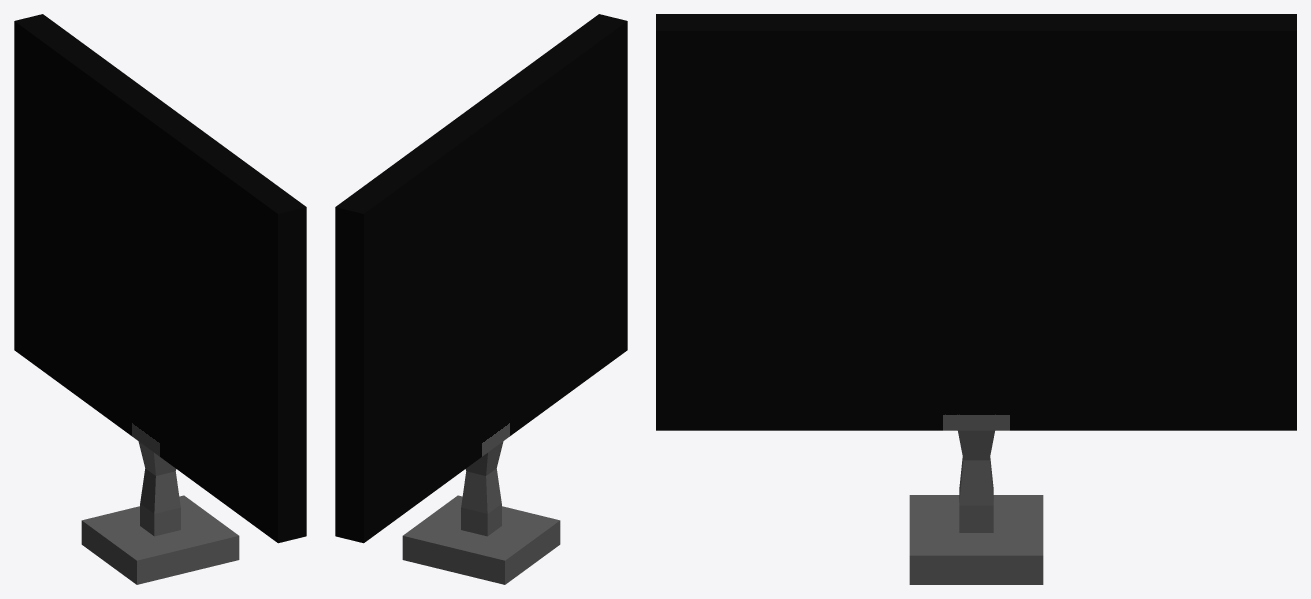
File: monitor.fbx
3 views of the same model, side by side, from view 1: azimuth 30°, elevation 25°; view 2: azimuth 150°, elevation 25°; view 3: azimuth 270°, elevation 25° (orthographic). The views are drawn at different scales.
Parts seen in each view (by area): view 1: Cube; view 2: Cube; view 3: Cube.
Boxes of the visible parts, <box> form: Cube: <box>14,14,306,584</box>; Cube: <box>335,14,627,584</box>; Cube: <box>656,14,1296,584</box>.
Size of the model in its own units: 40.26 by 165 by 180.
1 material, 1 textured.
